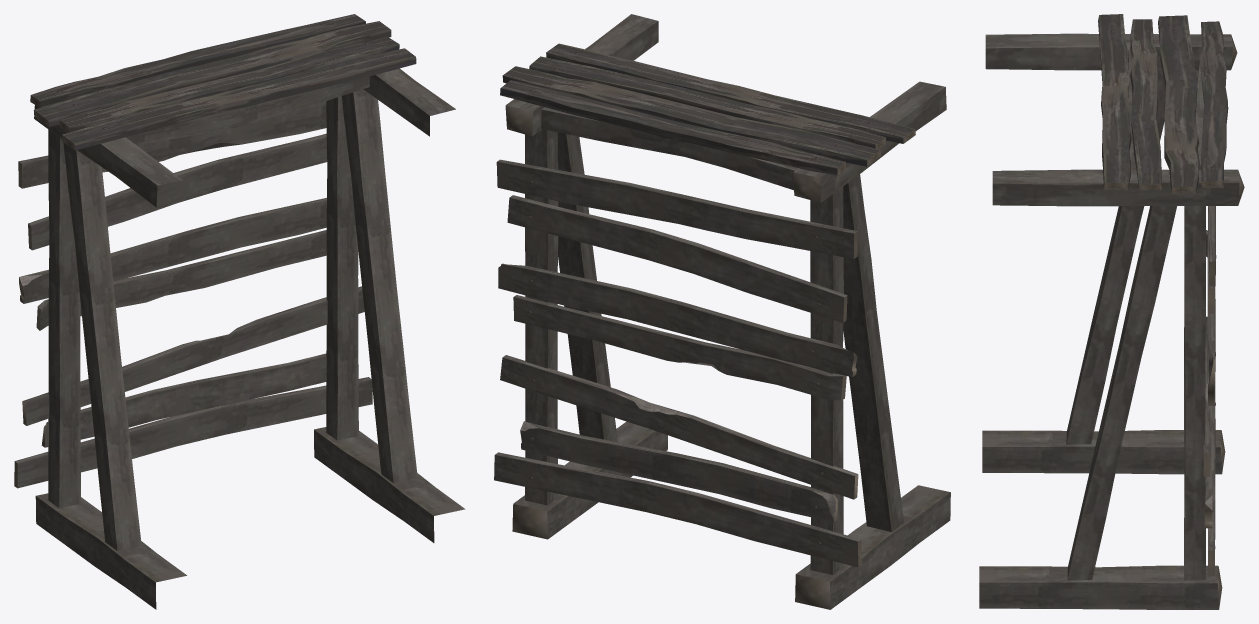
Rendered from AEG023_247out-transformed.glb.
3 views of the same model, side by side, from view 1: azimuth 30°, elevation 25°; view 2: azimuth 150°, elevation 25°; view 3: azimuth 270°, elevation 25° (orthographic). The views are drawn at different scales.
Parts seen in each view (by area): view 1: default; view 2: default; view 3: default.
Part boxes in pixels (<box>): default: <box>14,14,465,609</box>; default: <box>494,14,950,609</box>; default: <box>979,14,1244,609</box>.
Size of the model in its own units: 3.37 by 3.91 by 2.16.
1 material, 1 textured.
